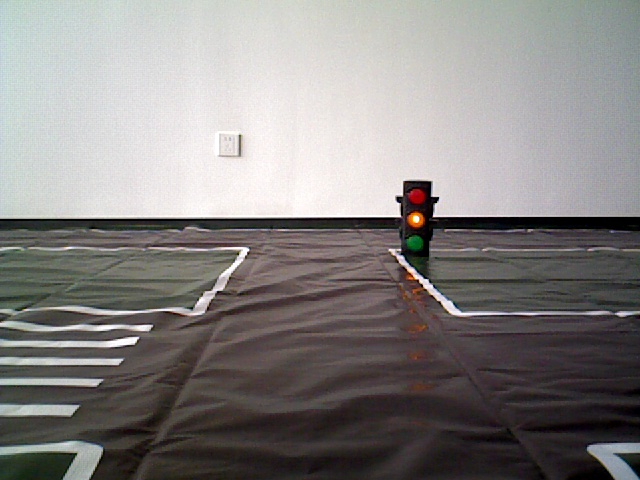yellow: (399, 183, 436, 267)
